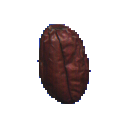ng: (25, 17, 103, 113)
